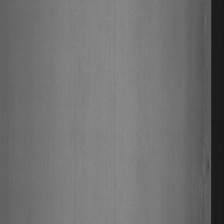silk_spot: (190, 138, 209, 215)
